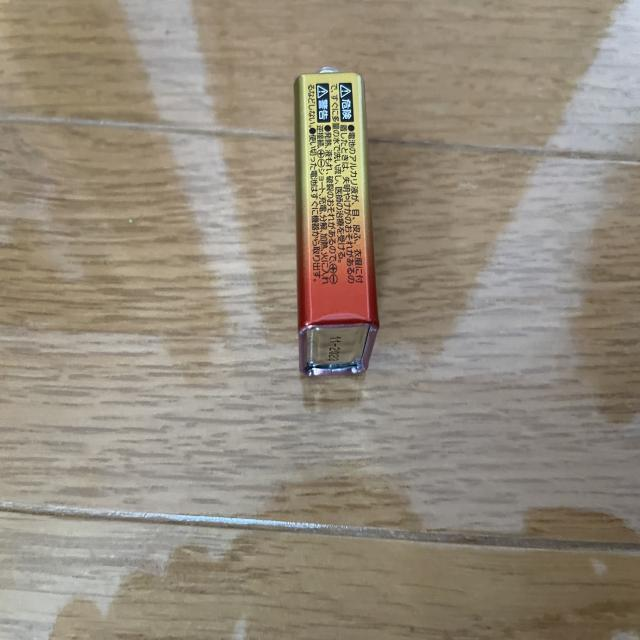9V: (294, 67, 379, 375)
